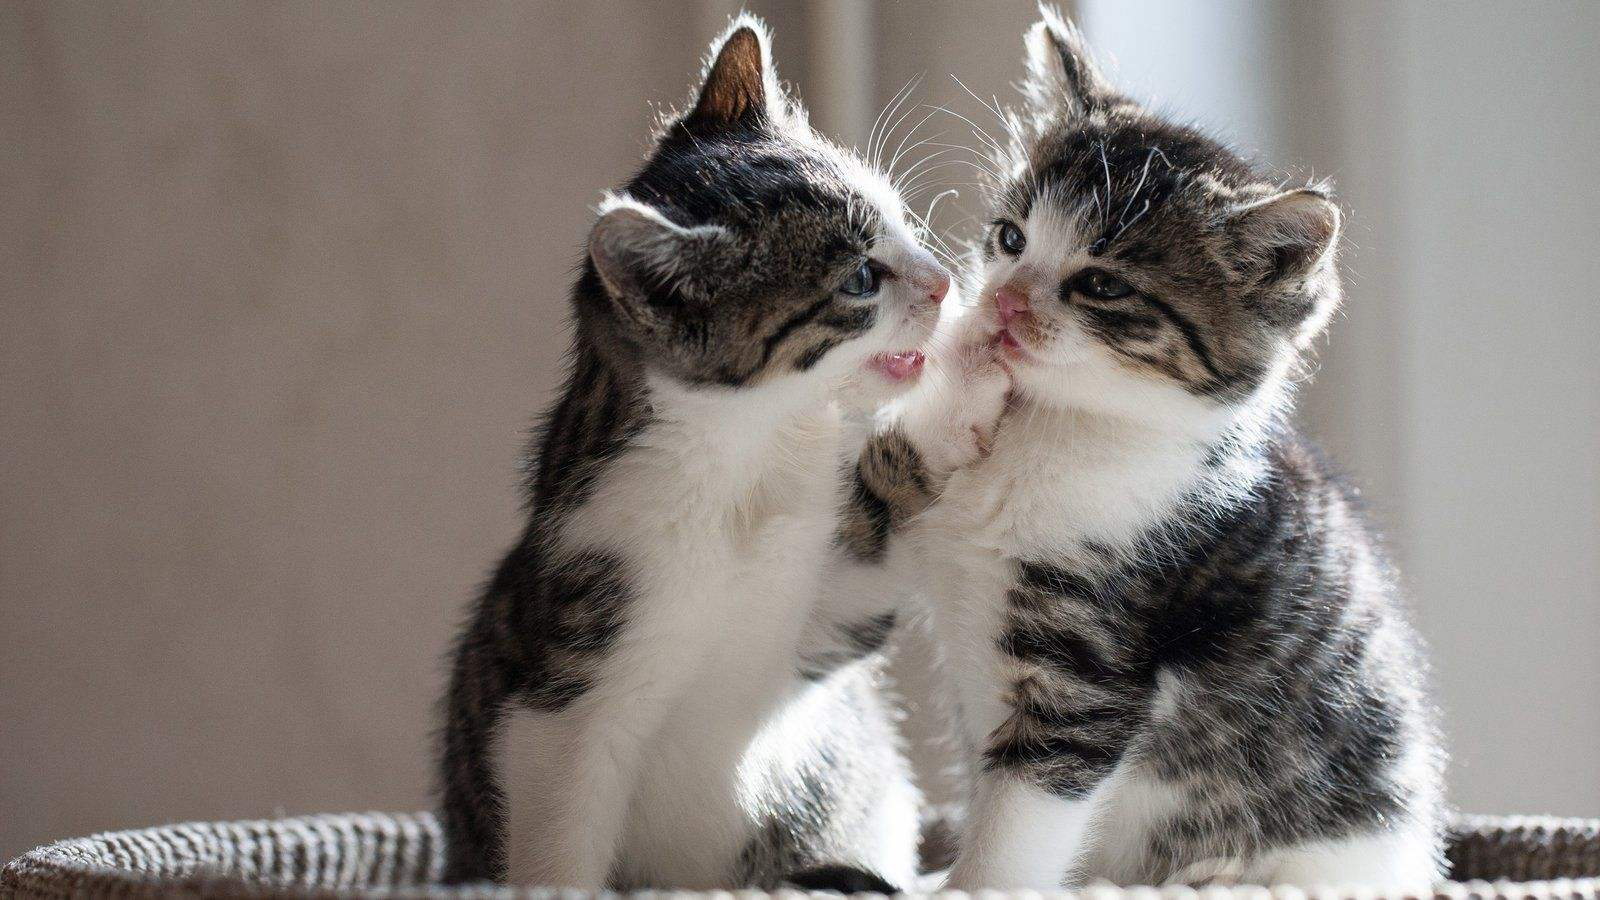cat: (854, 3, 1478, 900), (408, 18, 956, 878)
